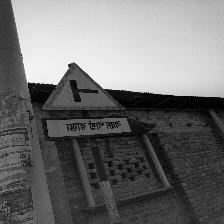Side-road-left: (40, 63, 143, 141)
